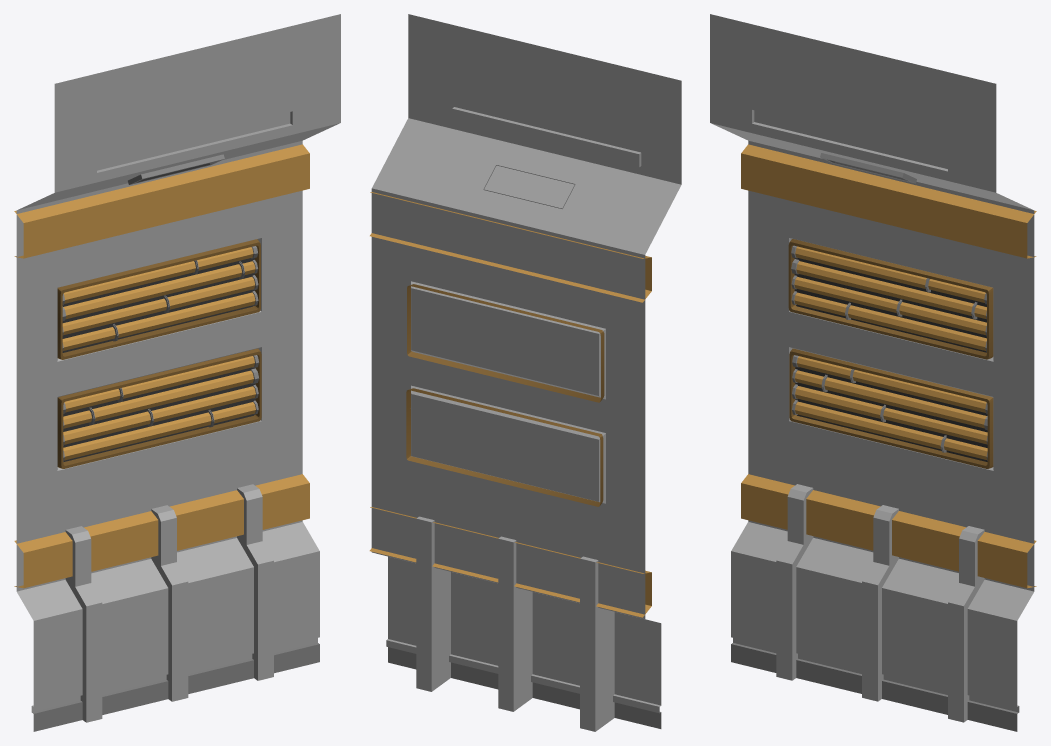
File: WallVariant2.fbx
3 renders of one model, left to right at view 1: azimuth 30°, elevation 25°; view 2: azimuth 150°, elevation 25°; view 3: azimuth 330°, elevation 25°, orthographic. The views are drawn at different scales.
Visible parts, largest first — view 1: Wall_5; view 2: Wall_5; view 3: Wall_5.
Boxes of the visible parts, box(x1,y1,x2,y2) form: Wall_5: box(14, 14, 340, 731); Wall_5: box(369, 14, 681, 731); Wall_5: box(710, 14, 1036, 731).
Bounding box in the file's own units: 2 × 4.43 × 0.5279.
